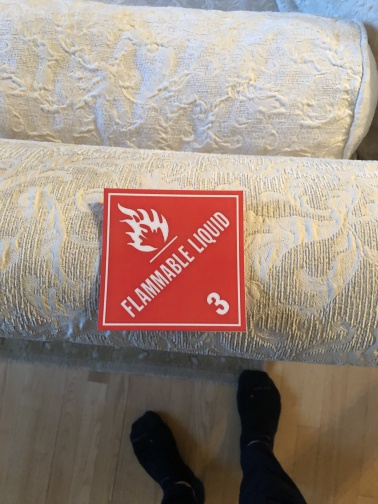FlammableLiquid: (97, 188, 251, 332)
